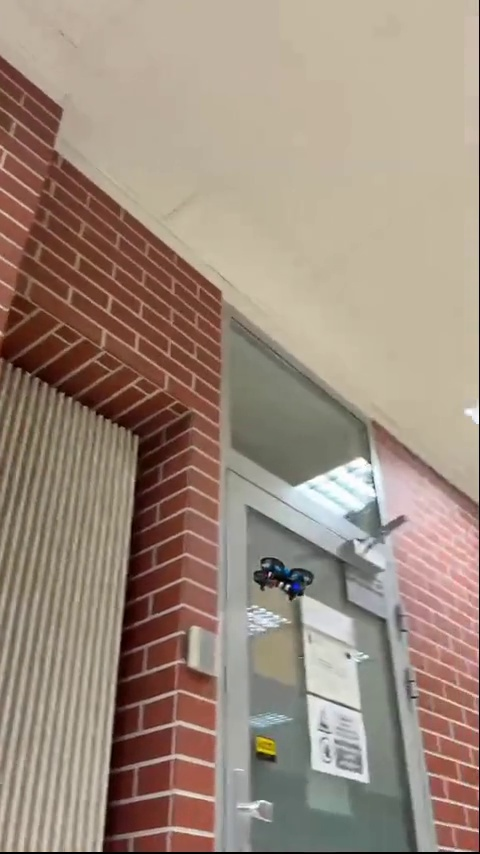drone: (250, 560, 314, 597)
